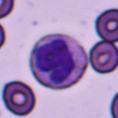M: (28, 34, 86, 89)
